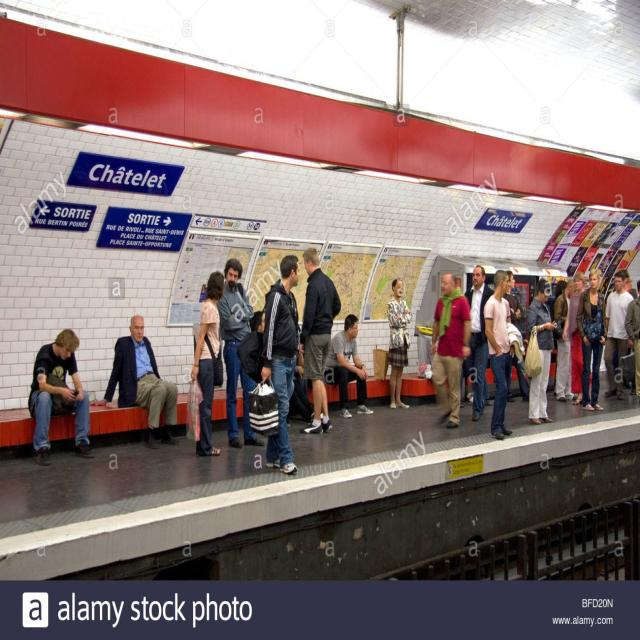body: (86, 314, 182, 451), (548, 274, 639, 402), (212, 256, 266, 448), (25, 326, 96, 467), (260, 253, 302, 477), (247, 307, 320, 432), (298, 245, 342, 436), (184, 269, 226, 458), (428, 271, 474, 431), (482, 268, 518, 440), (462, 264, 497, 424), (323, 313, 375, 420), (523, 274, 559, 426), (575, 265, 609, 411), (602, 268, 636, 401), (384, 276, 414, 411), (504, 269, 532, 404), (562, 271, 586, 405), (552, 278, 577, 404)
